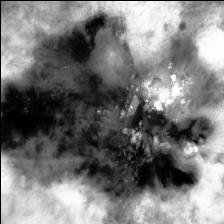Potentially Malignant Skin Tumors: (0, 14, 212, 202)
